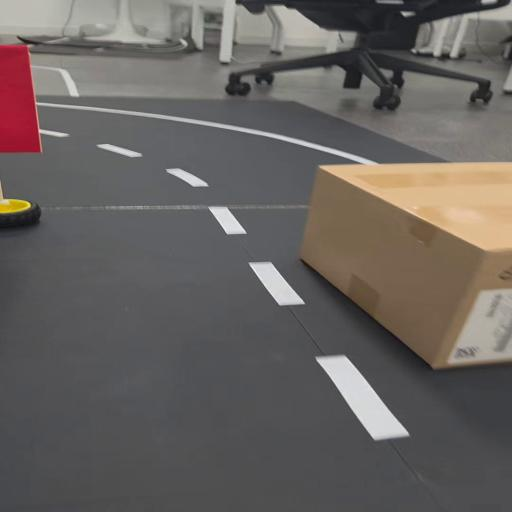Box: (289, 158, 512, 369)
